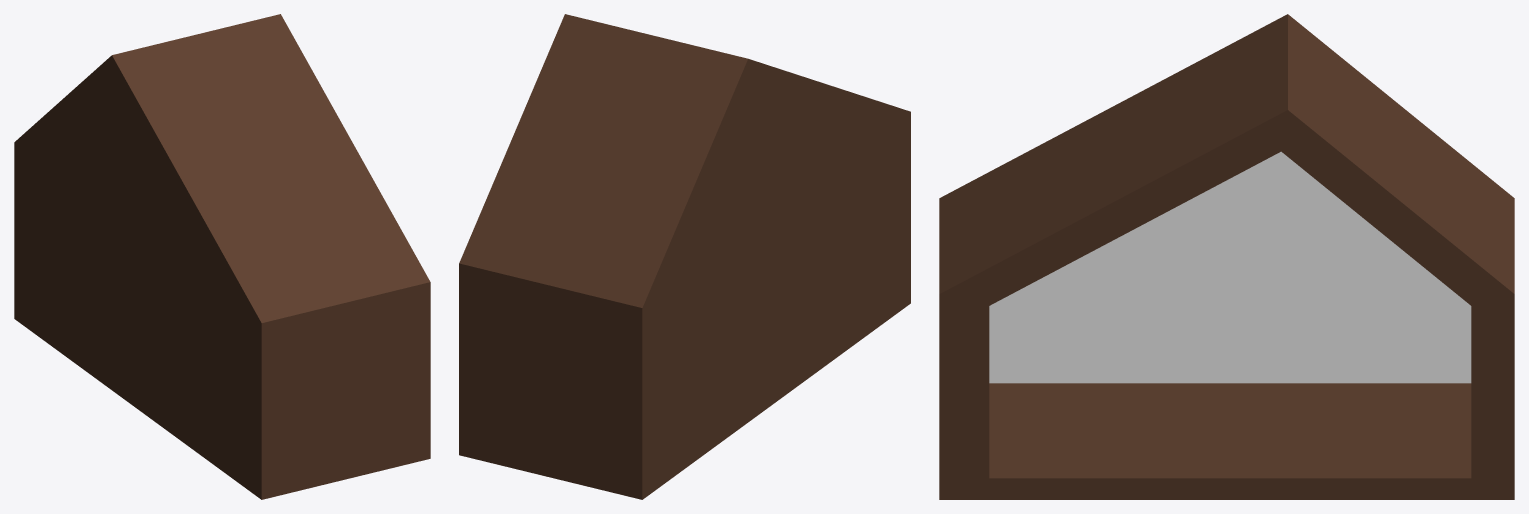
File: smolHouse.fbx
3 renders of one model, left to right at view 1: azimuth 30°, elevation 25°; view 2: azimuth 150°, elevation 25°; view 3: azimuth 270°, elevation 25°, orthographic. The views are drawn at different scales.
Visible parts, largest first — view 1: Cube; view 2: Cube; view 3: Cube.
Part boxes in pixels (<box>): Cube: <box>14,14,430,499</box>; Cube: <box>459,14,910,499</box>; Cube: <box>939,14,1514,499</box>.
Bounding box in the file's own units: 200 × 379 × 507.
